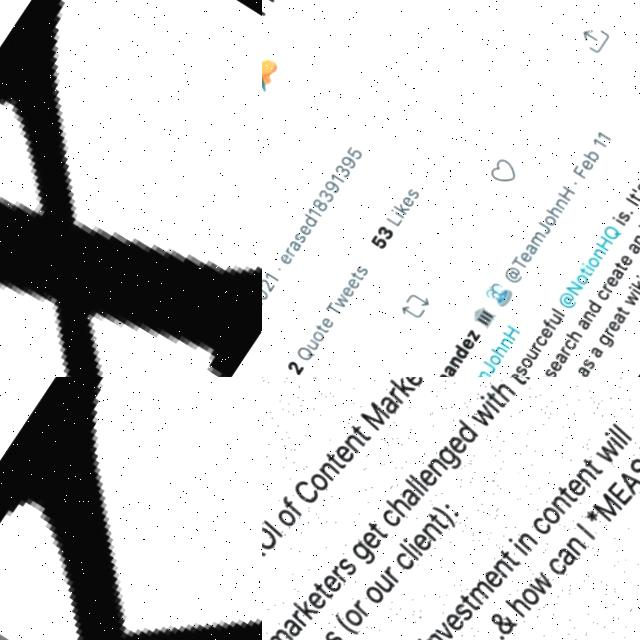0: (262, 285, 272, 302)
1: (265, 271, 284, 286), (330, 172, 348, 187), (596, 133, 613, 148), (593, 139, 609, 154), (308, 206, 324, 220)
2: (287, 358, 308, 377), (262, 277, 278, 292)
3: (377, 224, 398, 243), (317, 187, 338, 205), (335, 163, 352, 180)
5: (372, 234, 393, 251), (346, 146, 365, 162)
8: (313, 197, 332, 213)
9: (323, 179, 344, 197), (341, 155, 359, 172)
K: (0, 377, 262, 640)
X: (0, 0, 262, 377)
